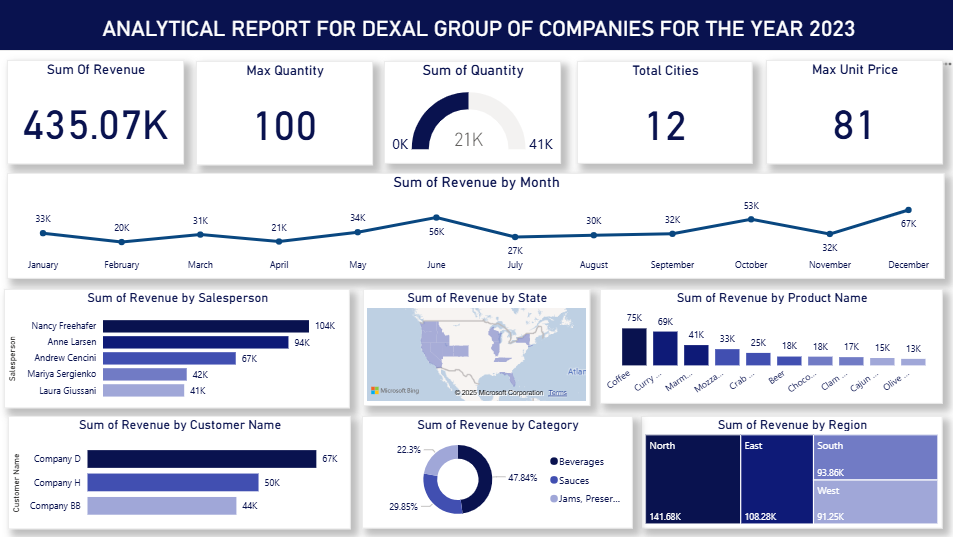

The dashboard page shown, as its layout file describes it:
{"tool":"powerbi","page":{"name":"Page 1","canvas":[1280,720],"ordinal":0},"visuals":[{"type":"textbox","box":[10,0,280,280],"z":0},{"type":"textbox","box":[10,290,280,280],"z":1000},{"type":"textbox","box":[0,0,1280,68.8],"z":2000},{"type":"card","title":"Sum Of Revenue","fields":{"Values":["Sum(Data (2).Revenue)"]},"box":[10.2,81.4,235.6,139],"z":3000},{"type":"card","title":"Max Quantity","fields":{"Values":["Max(Data (2).Quantity)"]},"box":[262.7,83.1,235.6,139],"z":4000},{"type":"gauge","fields":{"Y":["Sum(Data (2).Quantity)"]},"box":[512.9,82.9,235.7,137.1],"z":5000},{"type":"card","title":"Max Unit Price","fields":{"Values":["Max(Data (2).Unit Price)"]},"box":[1022.9,81.4,235.7,138.6],"z":6000},{"type":"card","title":"Total Cities","fields":{"Values":["Count(Data (2).City)"]},"box":[770,82.9,234.3,137.1],"z":7000},{"type":"lineChart","fields":{"Category":["Data (2).Order Date.Variation.Date Hierarchy.Month"],"Y":["Sum(Data (2).Revenue)"]},"box":[10,231.4,1250,141.4],"z":8000},{"type":"clusteredBarChart","fields":{"Category":["Data (2).Salesperson"],"Y":["Sum(Data (2).Revenue)"]},"box":[7.1,387.1,461.4,158.6],"z":9000},{"type":"filledMap","fields":{"Category":["Data (2).State"]},"box":[485.7,387.1,302.9,155.7],"z":10000},{"type":"clusteredColumnChart","fields":{"Y":["Sum(Data (2).Revenue)"],"Category":["Data (2).Product Name"]},"box":[801.4,387.1,457.1,152.9],"z":11000},{"type":"treemap","fields":{"Group":["Data (2).Region"],"Values":["Sum(Data (2).Revenue)"]},"box":[856.1,556,401.9,150],"z":12000},{"type":"clusteredBarChart","fields":{"Category":["Data (2).Customer Name"],"Y":["Sum(Data (2).Revenue)"]},"box":[11.4,555.7,457.1,151.4],"z":13000},{"type":"donutChart","fields":{"Category":["Data (2).Category"],"Y":["Sum(Data (2).Revenue)"]},"box":[484.5,556,360.6,150],"z":14000}]}

Visuals, with their boxes in screenshot pixels (x1, y1, x2, y2), scaled from the page's 1280x720 canvas onto the 953x537 screenshot:
textbox: 7/0/216/209
textbox: 7/216/216/425
textbox: 0/0/952/51
"Sum Of Revenue" card: 8/61/183/164
"Max Quantity" card: 196/62/371/166
gauge - Sum(Data (2).Quantity): 382/62/557/164
"Max Unit Price" card: 762/61/937/164
"Total Cities" card: 573/62/748/164
lineChart - Data (2).Order Date.Variation.Date Hierarchy.Month x Sum(Data (2).Revenue): 7/173/938/278
clusteredBarChart - Data (2).Salesperson x Sum(Data (2).Revenue): 5/289/349/407
filledMap - Data (2).State: 362/289/587/405
clusteredColumnChart - Sum(Data (2).Revenue) x Data (2).Product Name: 597/289/937/403
treemap - Data (2).Region x Sum(Data (2).Revenue): 637/415/937/527
clusteredBarChart - Data (2).Customer Name x Sum(Data (2).Revenue): 8/414/349/527
donutChart - Data (2).Category x Sum(Data (2).Revenue): 361/415/629/527
